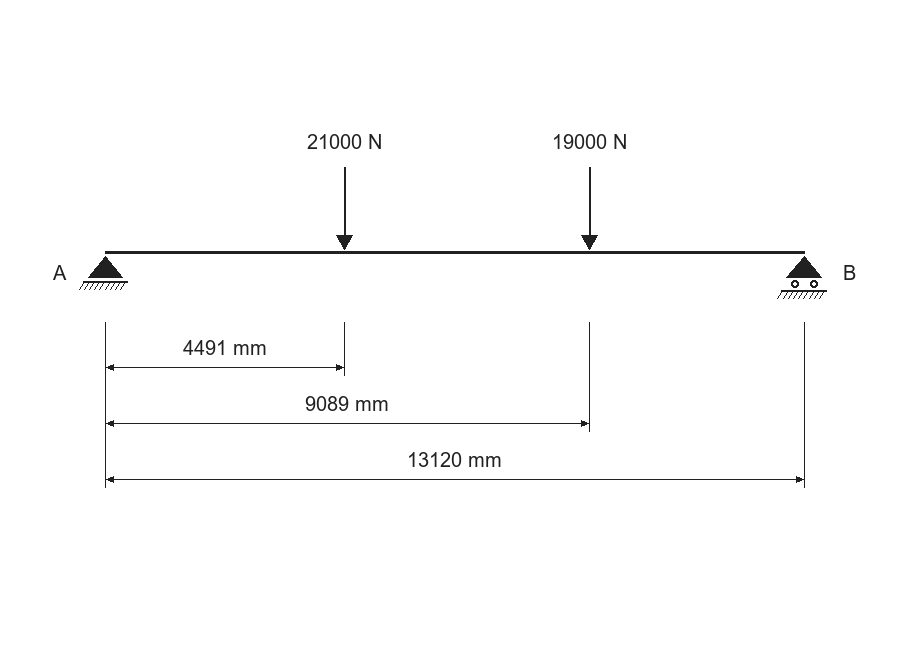pin_support: (79, 256, 128, 290)
point_load: (336, 167, 353, 250), (581, 167, 598, 250)
roller_support: (777, 256, 827, 299)
